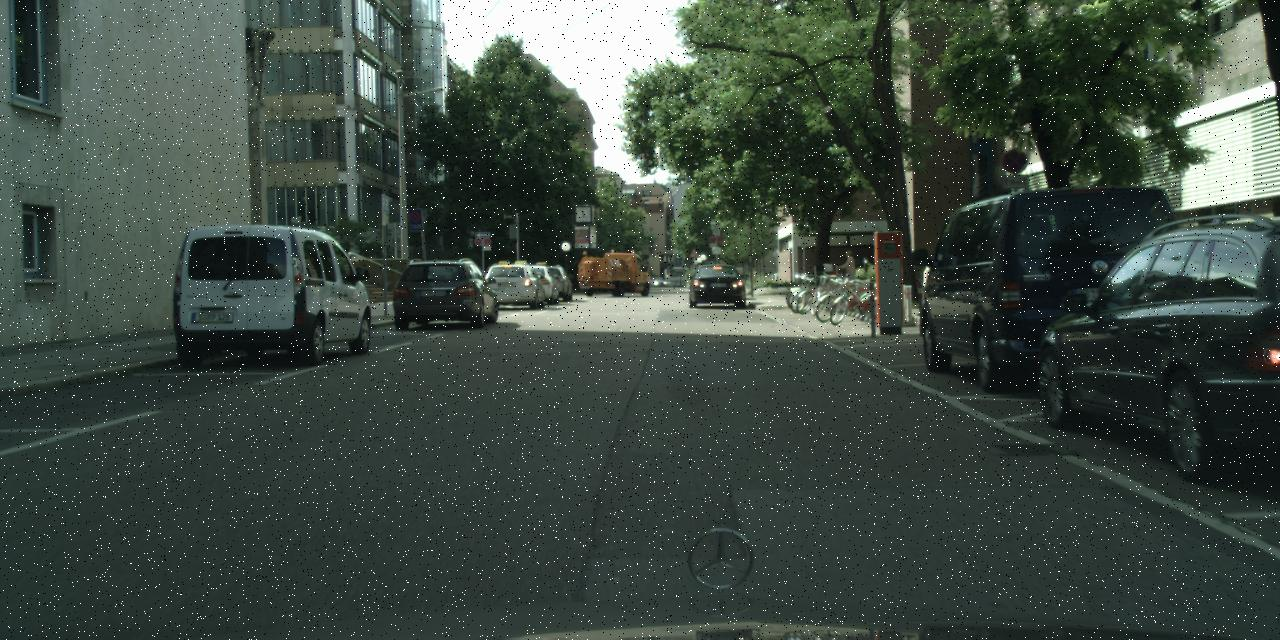ped: (840, 250, 858, 294)
